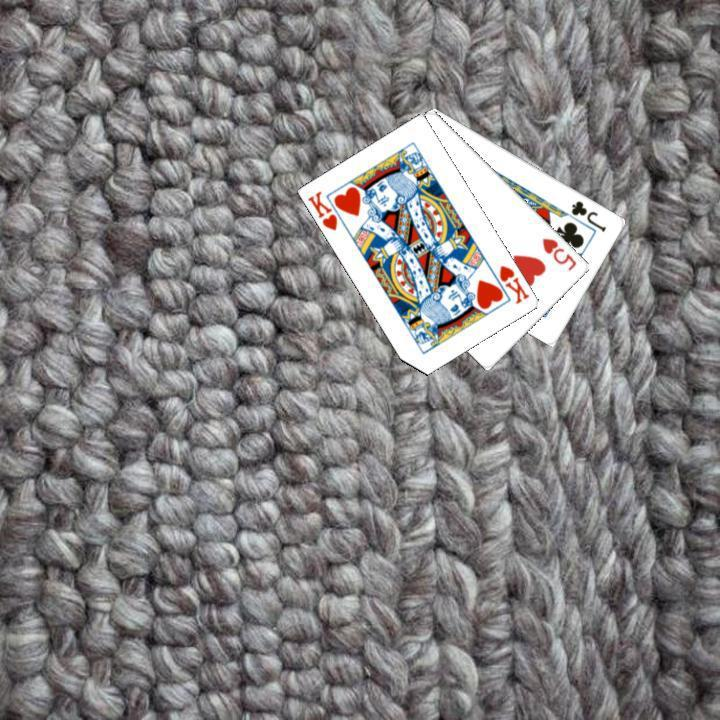5: (538, 234, 579, 273)
J: (567, 196, 609, 234)
K: (495, 261, 532, 306), (304, 187, 340, 233)
